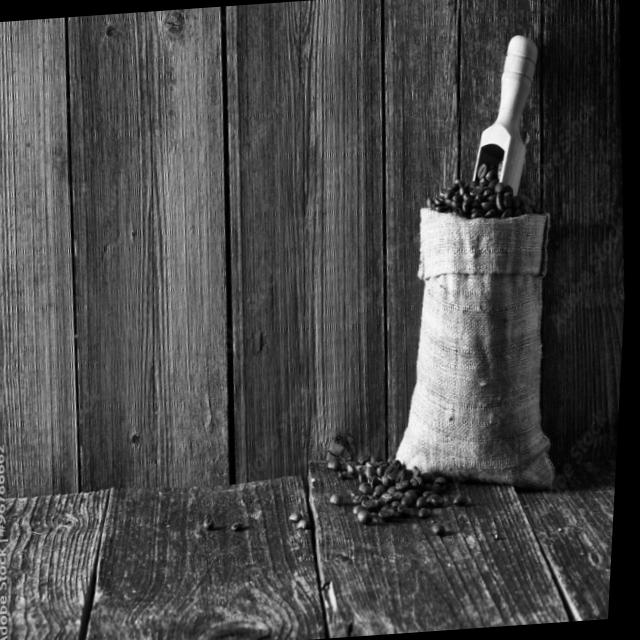sack: (382, 197, 572, 498)
